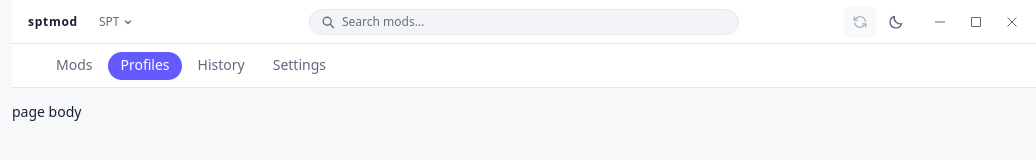
it: the maximize button › toggles the Tauri window and reads the new state back
Click the button named "Maximize": click(976, 22) 960,6 -> 992,38
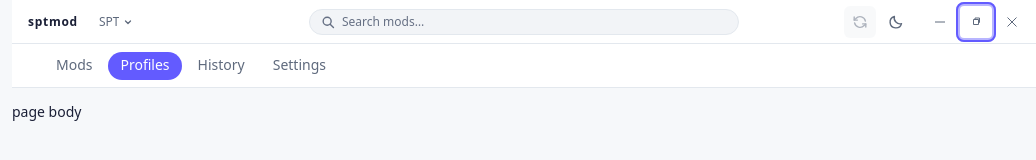
Expected: the button named "Restore" is shown, 960,6 -> 992,38
